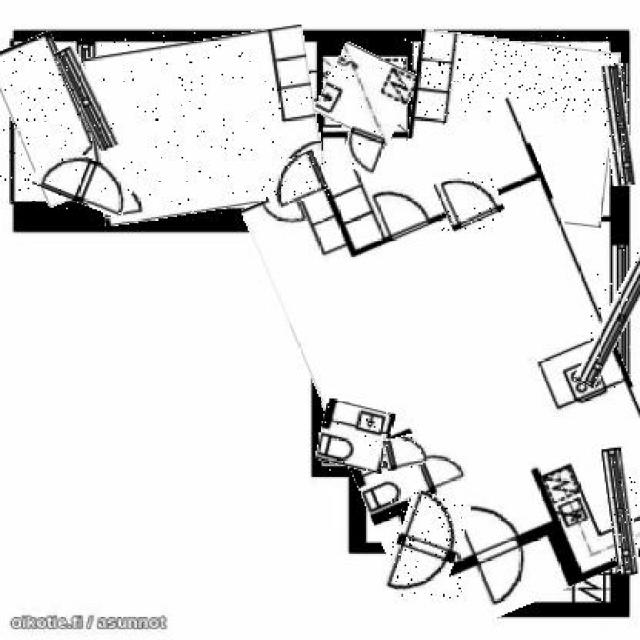door: (389, 492, 465, 602), (35, 151, 134, 211), (439, 167, 503, 236), (262, 153, 329, 204), (342, 128, 383, 174), (385, 434, 426, 469)
window: (589, 246, 640, 389), (66, 43, 109, 152), (606, 448, 637, 575), (603, 65, 631, 186)
zone: (281, 115, 640, 626), (86, 32, 323, 218), (404, 35, 616, 223), (0, 34, 97, 205), (318, 48, 412, 140), (320, 403, 394, 471)
